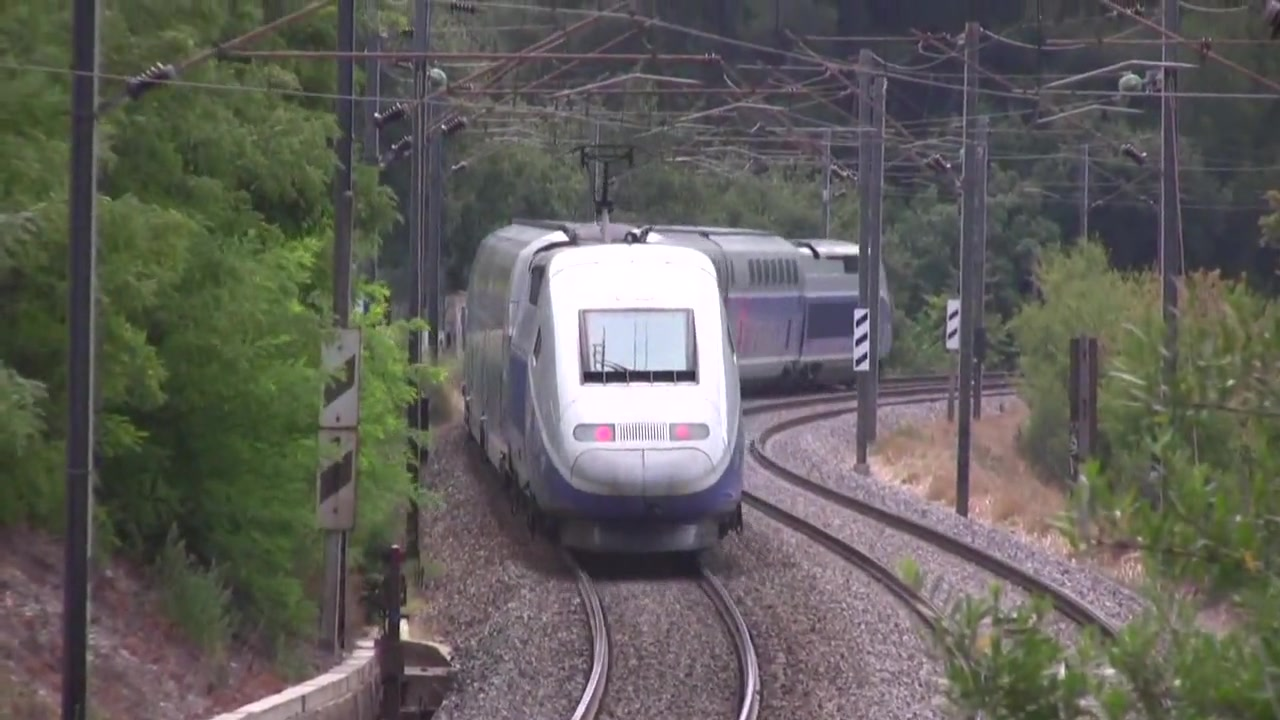train: (455, 209, 889, 571)
